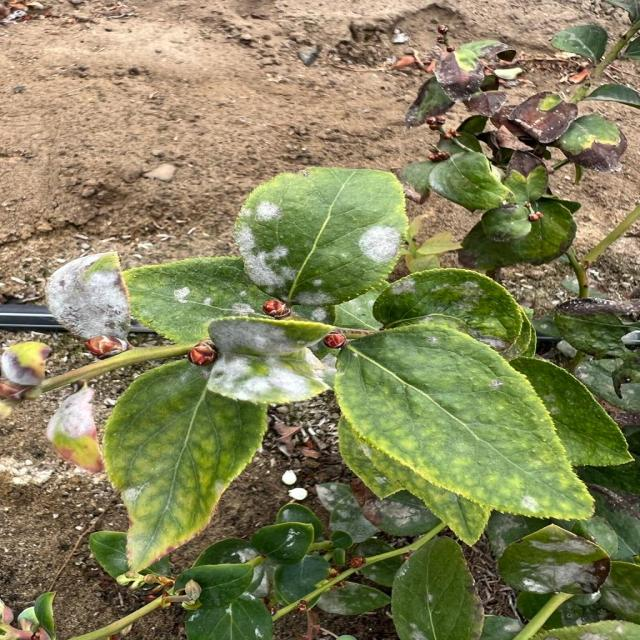Hojas con oidiosis: (242, 186, 409, 292), (214, 314, 342, 406), (48, 254, 140, 340)
